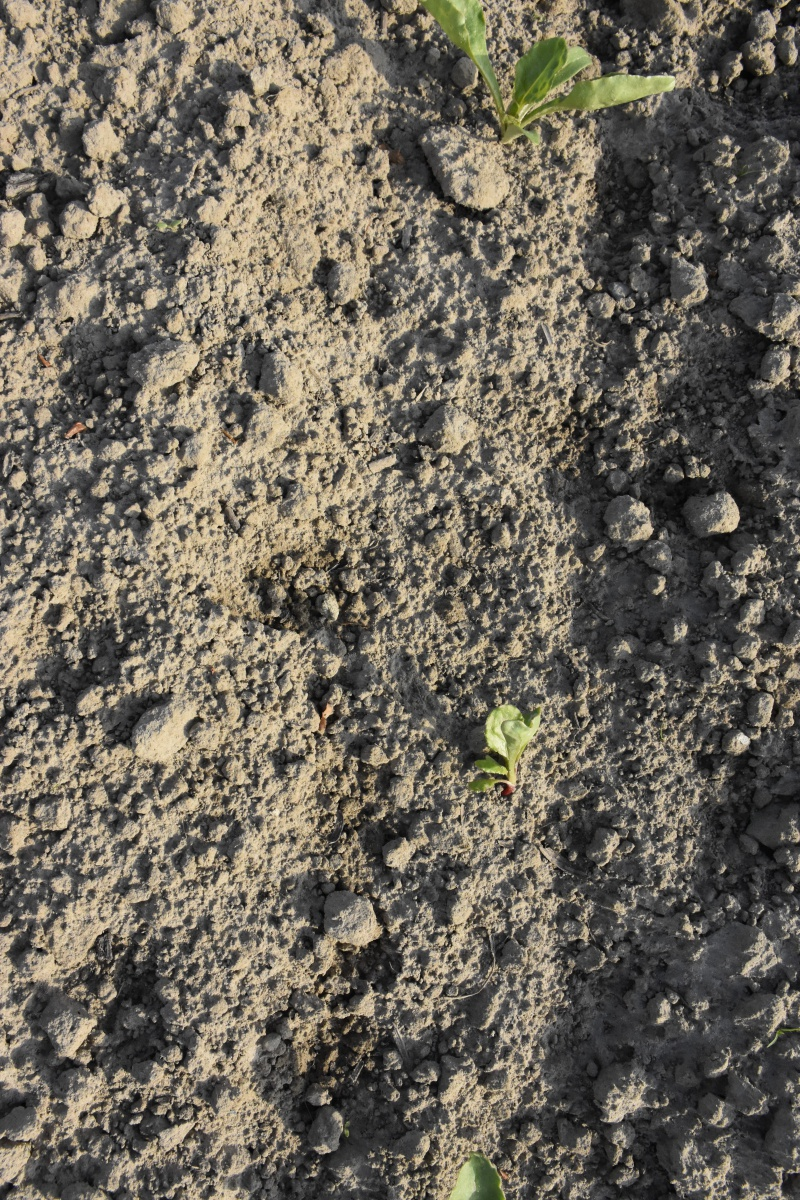sugar beet: (417, 1, 689, 156), (476, 697, 551, 805), (442, 1151, 510, 1200)
